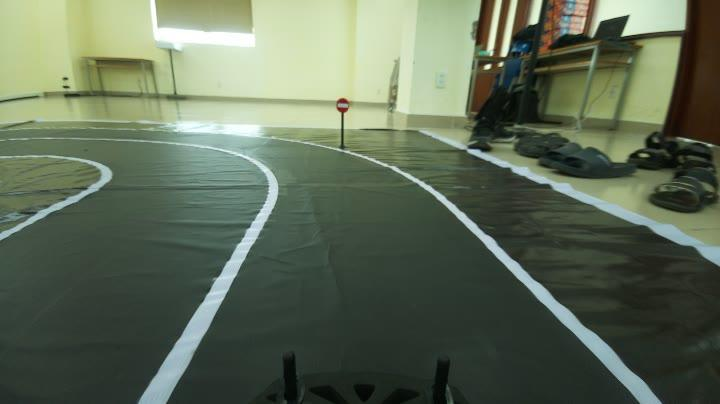no_entry: (330, 90, 353, 116)
